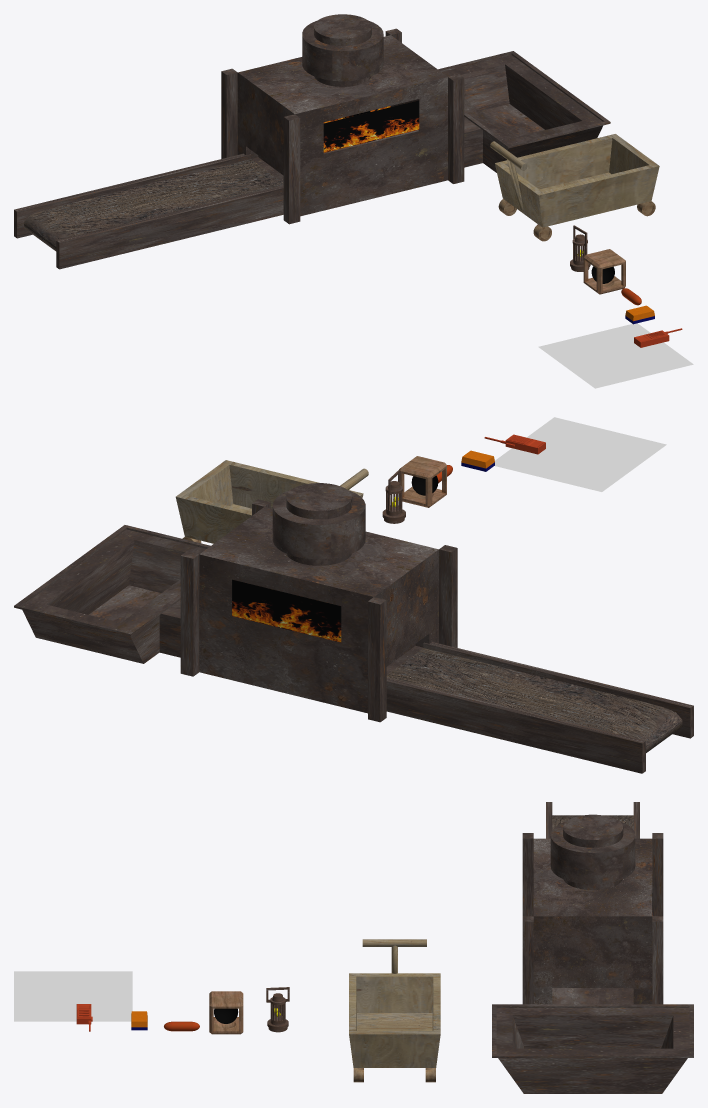
File: daoju_v1.fbx
The picture shows the model from 3 angles, top to bottom: view 1: azimuth 30°, elevation 25°; view 2: azimuth 150°, elevation 25°; view 3: azimuth 270°, elevation 25°; orthographic projection. The views are drawn at different scales.
Parts seen in each view (by area): view 1: kaochangji, che, 平面, mofadengkuang, tideng; view 2: kaochangji, 平面, che, mofadengkuang, tideng, duijiangji; view 3: kaochangji, che, 平面, mofadengkuang, tideng.
Boxes of the visible parts, box(x1,y1,x2,y2) form: kaochangji: box(14, 14, 610, 269); che: box(490, 134, 659, 241); 平面: box(538, 323, 693, 388); mofadengkuang: box(583, 249, 625, 294); tideng: box(570, 225, 590, 271); kaochangji: box(14, 483, 693, 773); 平面: box(495, 417, 666, 491); che: box(175, 460, 368, 543); mofadengkuang: box(399, 456, 446, 507); tideng: box(382, 470, 405, 523); duijiangji: box(484, 434, 545, 454); kaochangji: box(492, 802, 693, 1093); che: box(349, 939, 440, 1082); 平面: box(14, 971, 132, 1021); mofadengkuang: box(209, 991, 243, 1034); tideng: box(266, 987, 289, 1032).
Size of the model in its own units: 1063 by 294 by 1147.
